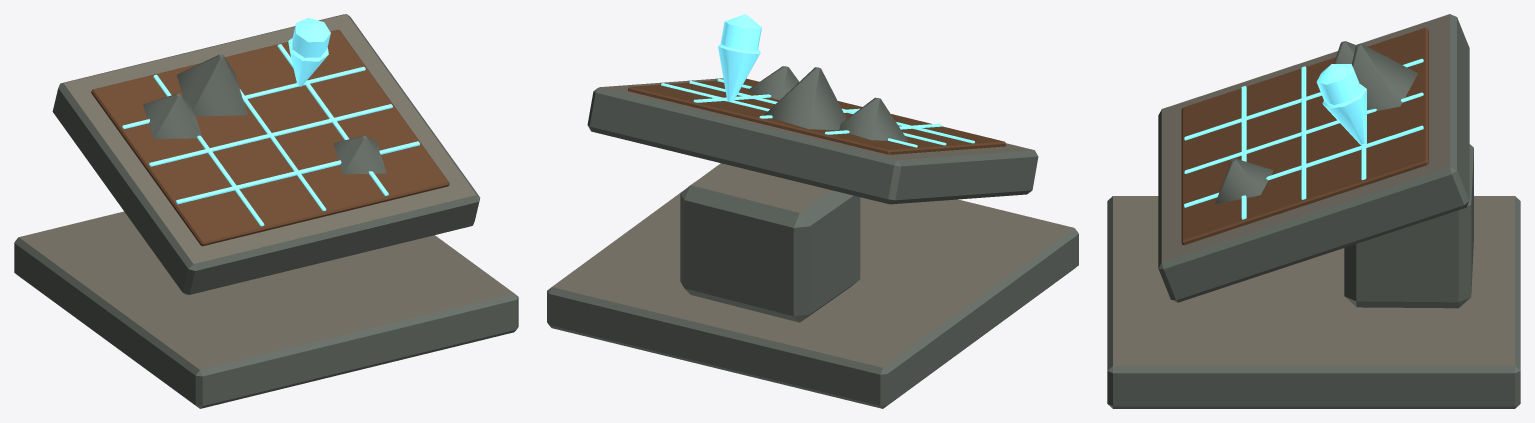
Rendered from R4X_Minimap_LOD1.fbx.
The picture shows the model from 3 angles, left to right: view 1: azimuth 30°, elevation 25°; view 2: azimuth 150°, elevation 25°; view 3: azimuth 270°, elevation 25°; orthographic projection. The views are drawn at different scales.
Visible parts, largest first — view 1: R4X_Minimap_LOD1; view 2: R4X_Minimap_LOD1; view 3: R4X_Minimap_LOD1.
Part boxes in pixels (left/top/right/bottom): R4X_Minimap_LOD1: left=14, top=14, right=518, bottom=408; R4X_Minimap_LOD1: left=547, top=14, right=1078, bottom=408; R4X_Minimap_LOD1: left=1107, top=14, right=1520, bottom=408.
Size of the model in its own units: 0.52 by 0.403 by 0.52.
